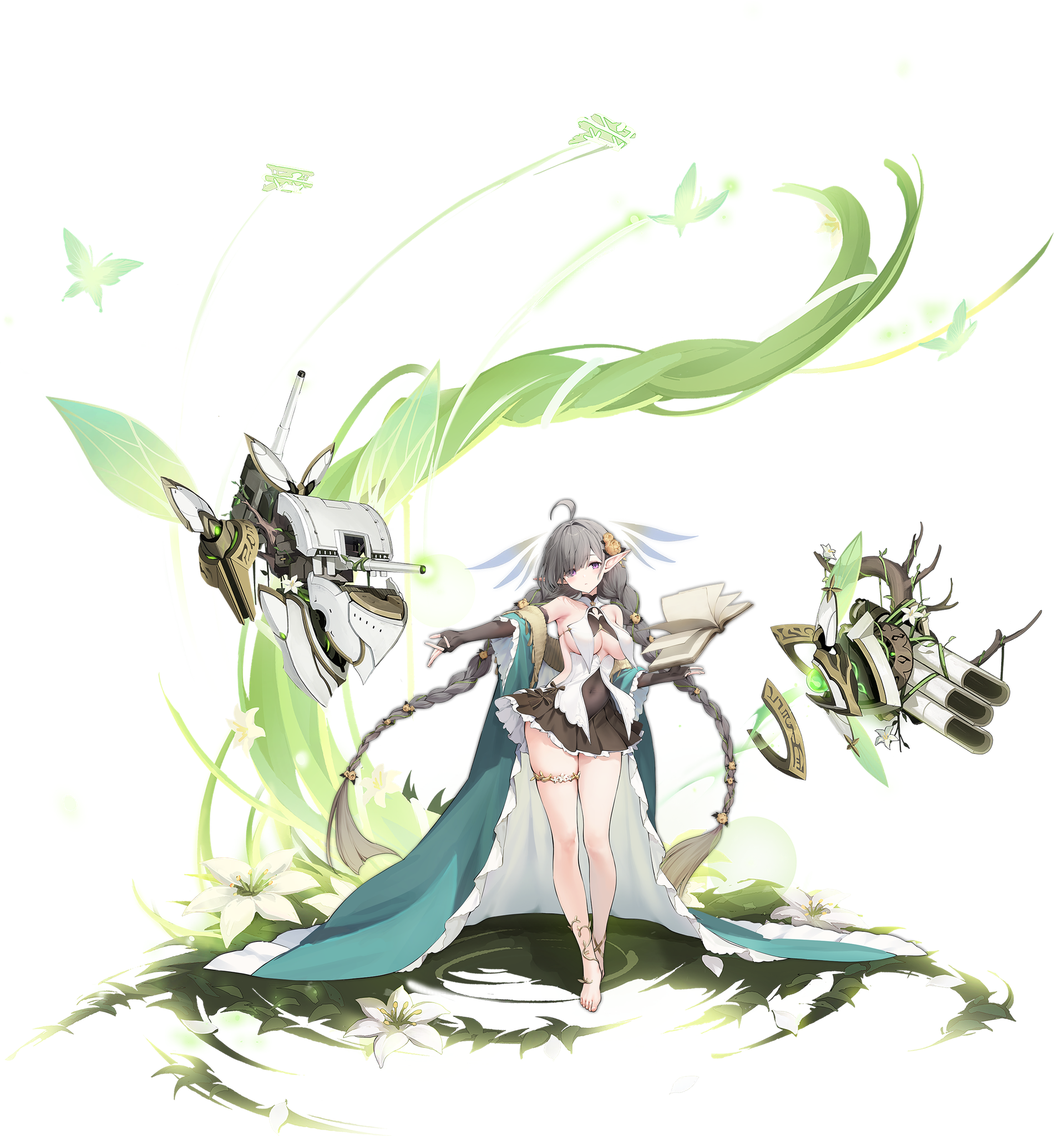person: (468, 494, 721, 1046)
